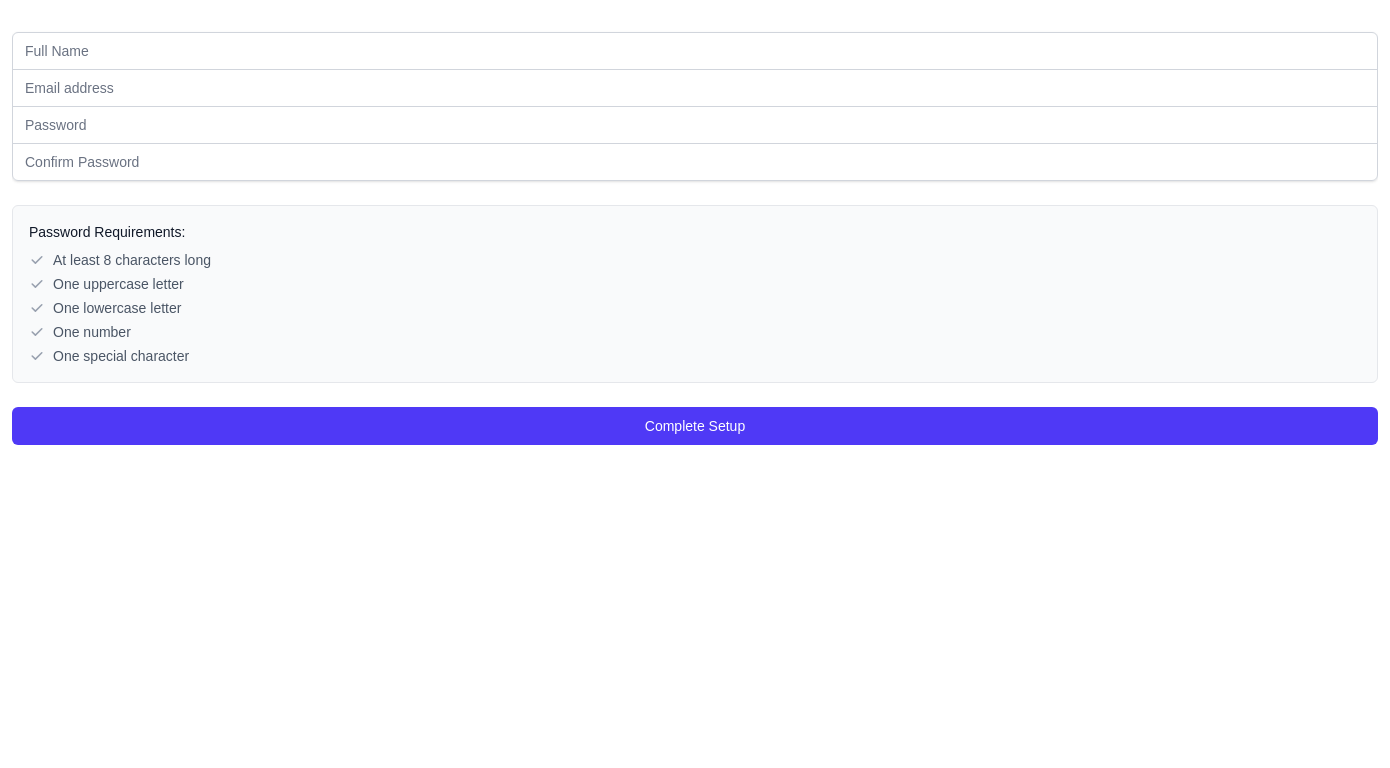
Scenario: SetupForm › should validate required fields
Step 1. Click the button with test id "setup-button" → (695, 426), box x1=12 y1=407 x2=1378 y2=445
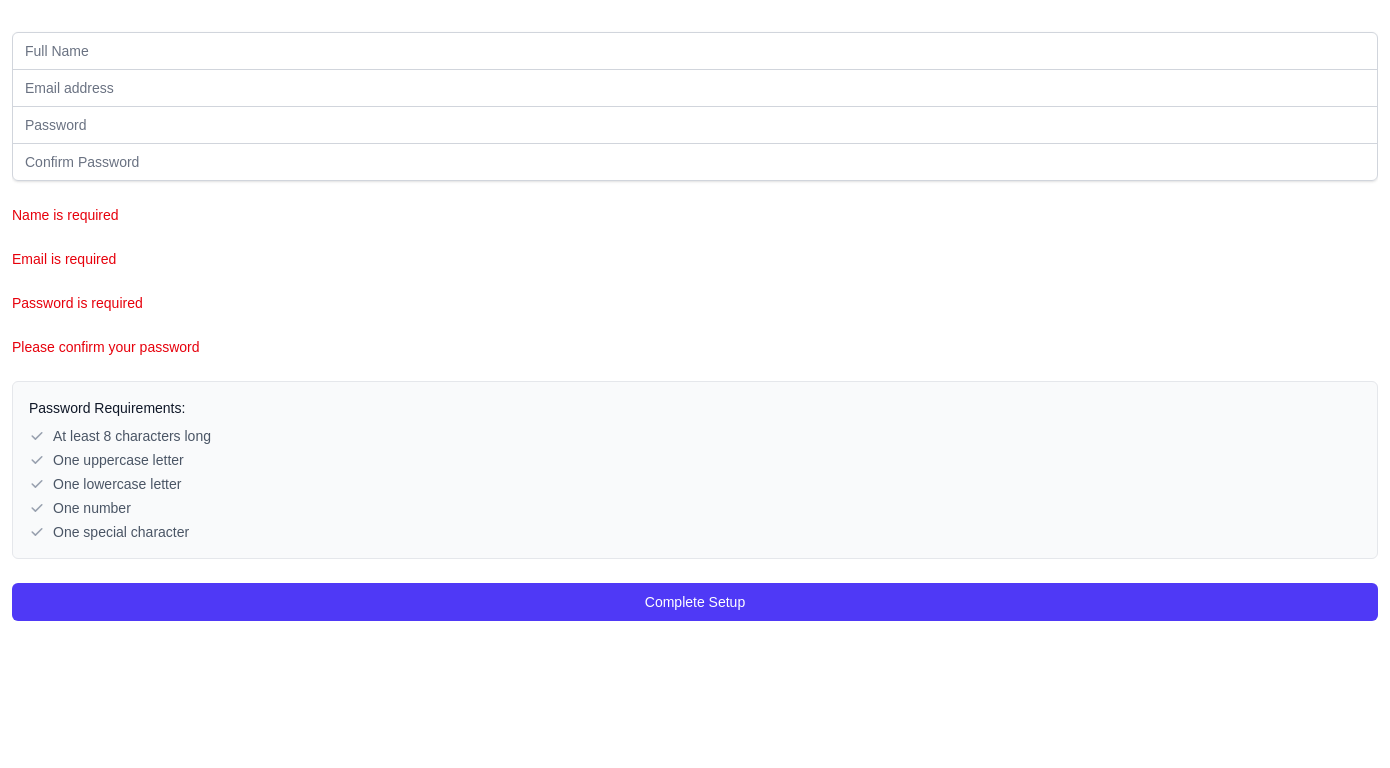
Result: the text "Name is required" is shown at x1=12 y1=207 x2=119 y2=223
Result: the text "Email is required" is shown at x1=12 y1=251 x2=116 y2=267
Result: the text "Password is required" is shown at x1=12 y1=295 x2=143 y2=311
